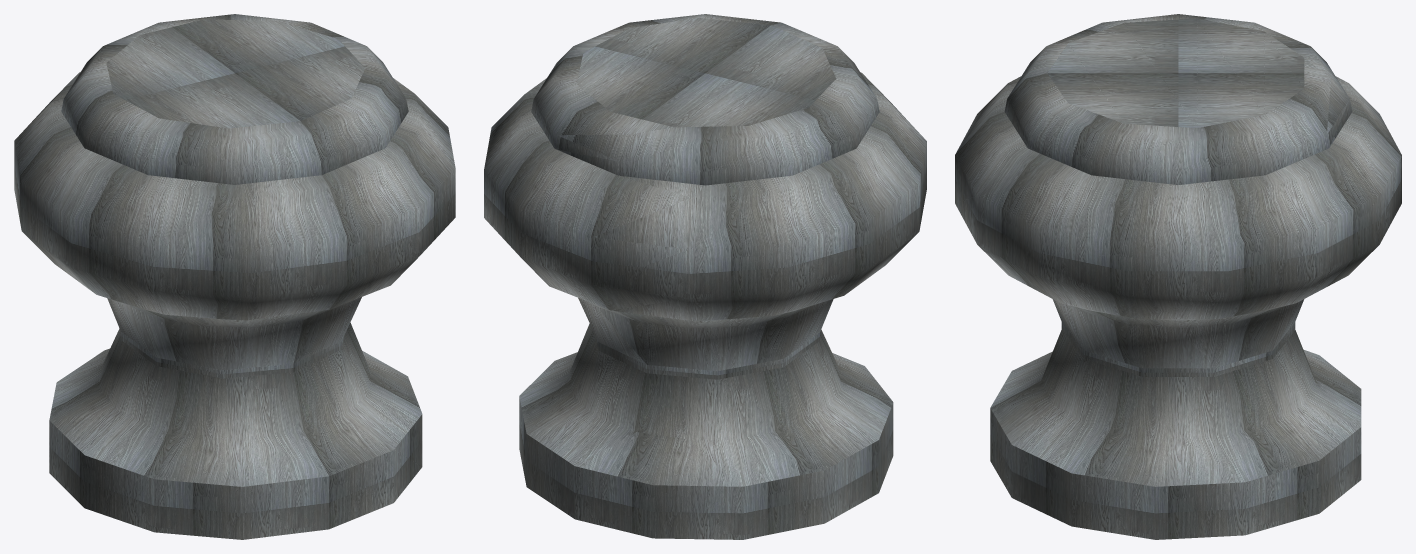
3 renders of one model, left to right at view 1: azimuth 30°, elevation 25°; view 2: azimuth 150°, elevation 25°; view 3: azimuth 270°, elevation 25°, orthographic.
Visible parts, largest first — view 1: testObject; view 2: testObject; view 3: testObject.
Part boxes in pixels (<box>): testObject: <box>14,14,455,539</box>; testObject: <box>484,14,926,539</box>; testObject: <box>955,14,1401,539</box>.
Size of the model in its own units: 0.5255 by 0.5161 by 0.5391.
1 material, 1 textured.
